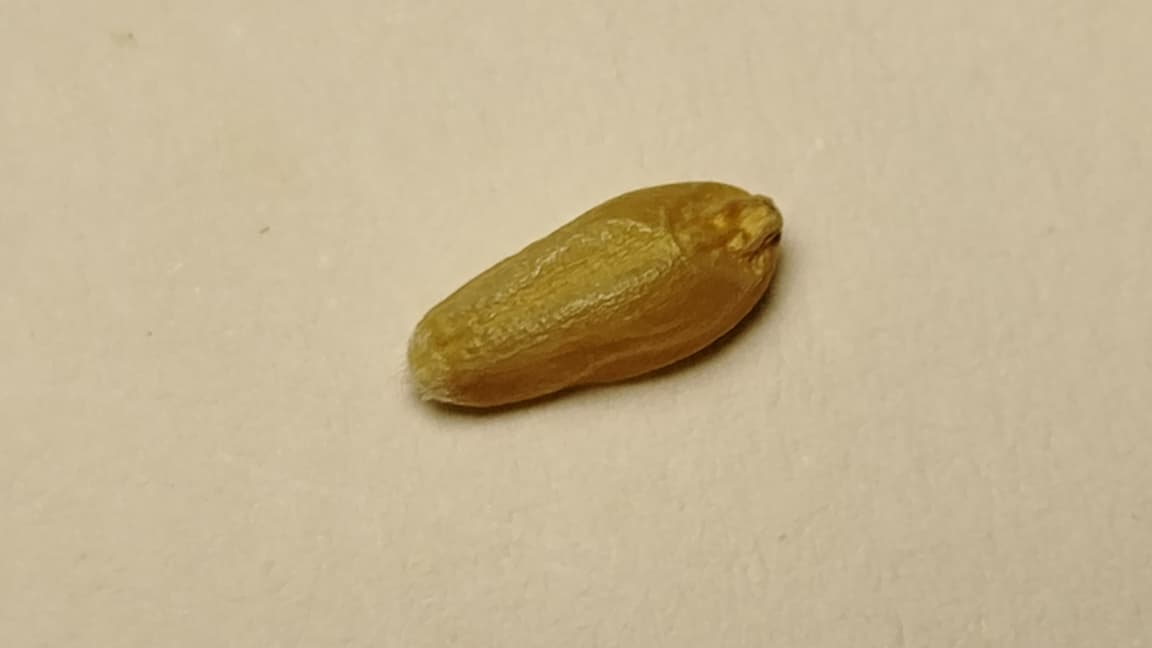healthy: (409, 182, 781, 404)
